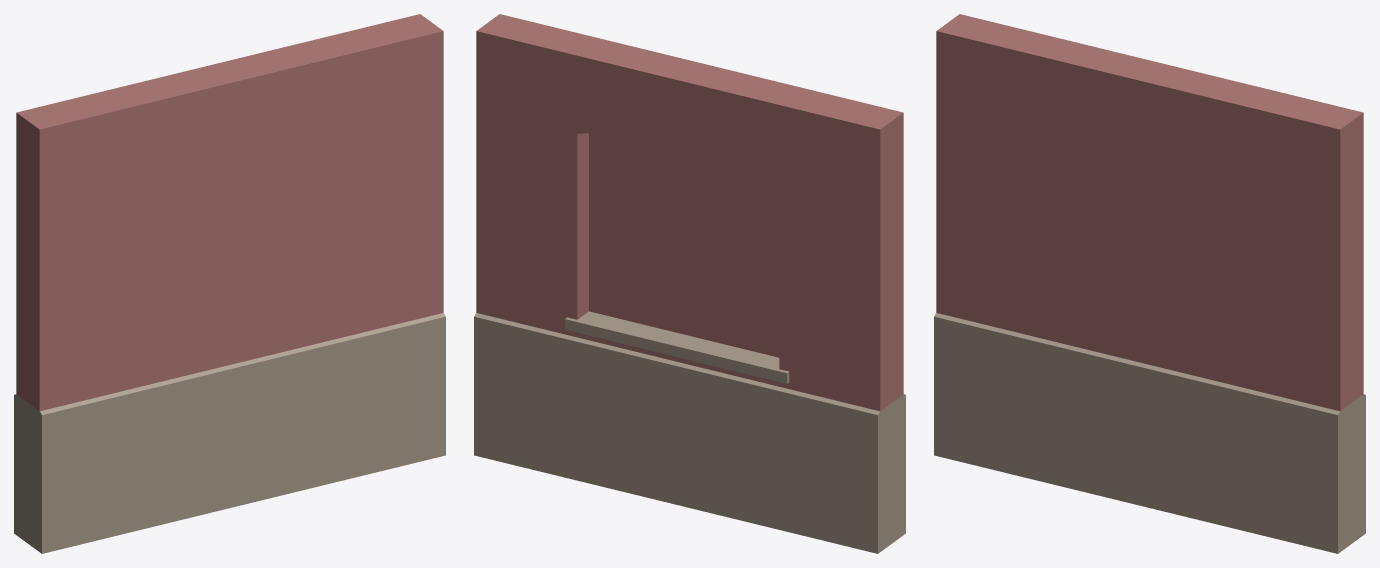
The model's file is wall_base_hole.fbx.
The picture shows the model from 3 angles, left to right: view 1: azimuth 30°, elevation 25°; view 2: azimuth 150°, elevation 25°; view 3: azimuth 330°, elevation 25°; orthographic projection.
Parts seen in each view (by area): view 1: Cube; view 2: Cube; view 3: Cube.
Part boxes in pixels (x1=…): Cube: x1=14, y1=14, x2=445, y2=553; Cube: x1=474, y1=14, x2=905, y2=553; Cube: x1=934, y1=14, x2=1365, y2=553.
Bounding box in the file's own units: 400 × 400 × 48.
